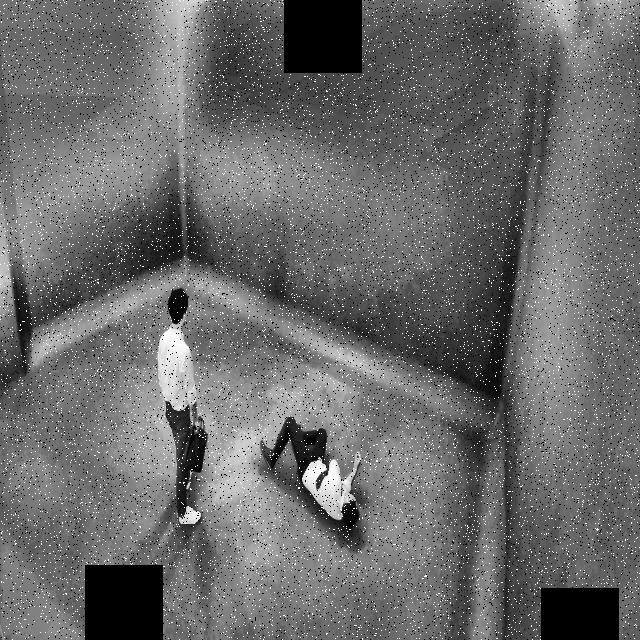assult: (149, 271, 368, 547), (250, 406, 366, 537)
